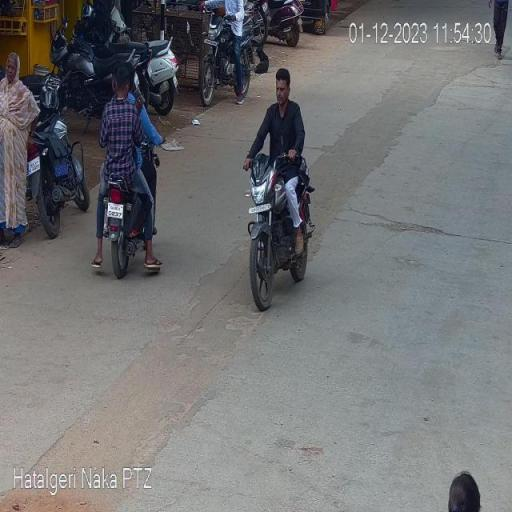tripple riding: (98, 55, 164, 184)
